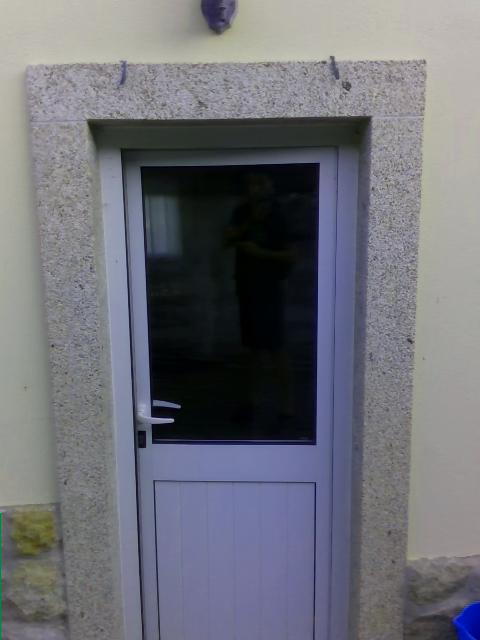closed_door: (111, 132, 350, 639)
